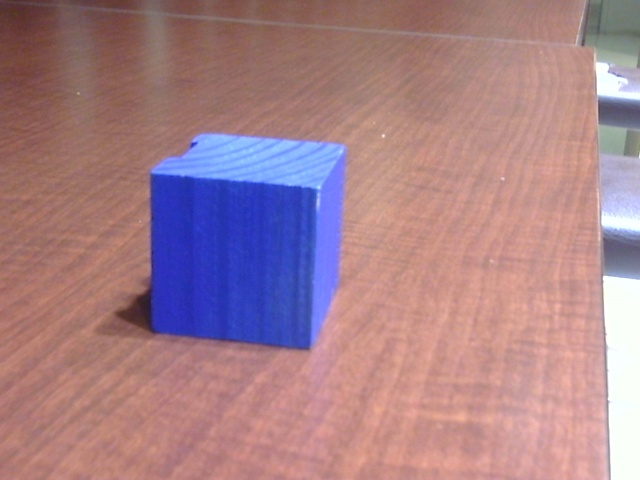BlueBlock: (149, 132, 349, 350)
